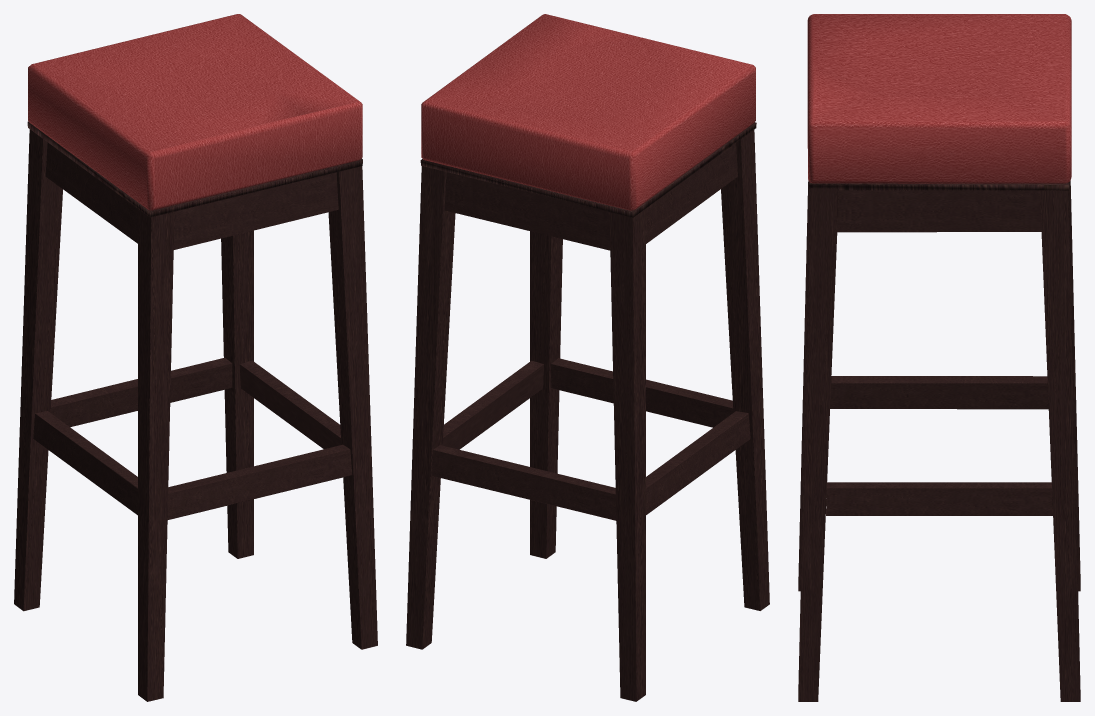
Rendered from Chair 2.FBX.
3 views of the same model, side by side, from view 1: azimuth 30°, elevation 25°; view 2: azimuth 150°, elevation 25°; view 3: azimuth 270°, elevation 25° (orthographic). The views are drawn at different scales.
Parts seen in each view (by area): view 1: Chair 2; view 2: Chair 2; view 3: Chair 2.
Part boxes in pixels (box(x1,y1,x2,y2)): Chair 2: box(14, 14, 377, 701); Chair 2: box(406, 14, 769, 701); Chair 2: box(798, 14, 1080, 701).
Bounding box in the file's own units: 38.79 × 87.21 × 38.85.
2 materials, 2 textured.
